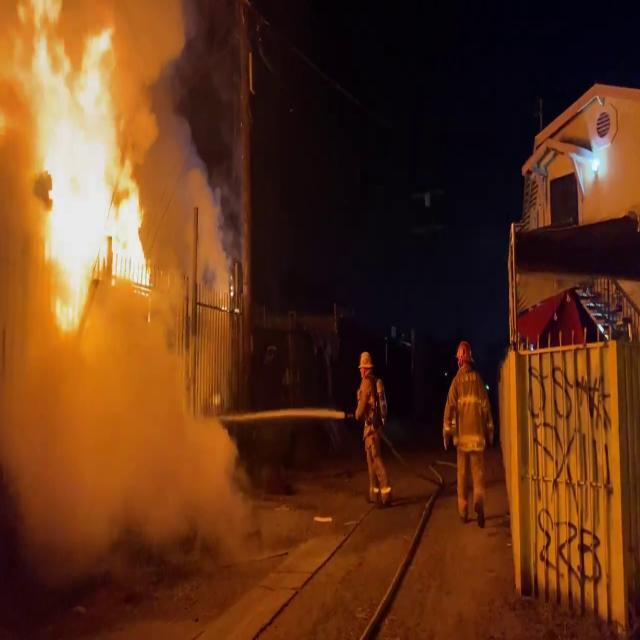Fire: (6, 2, 160, 332)
Smoke: (2, 286, 236, 580)
